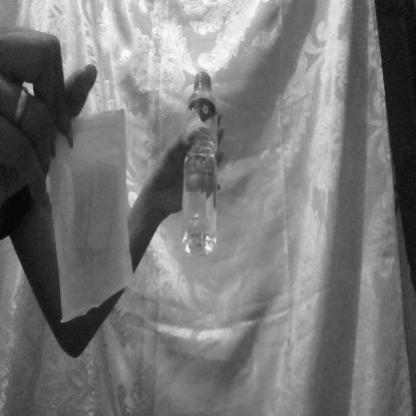Plastic Bottle: (171, 52, 239, 281)
